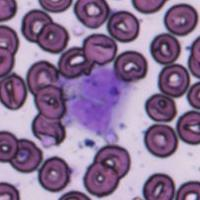M: (69, 66, 134, 136)
